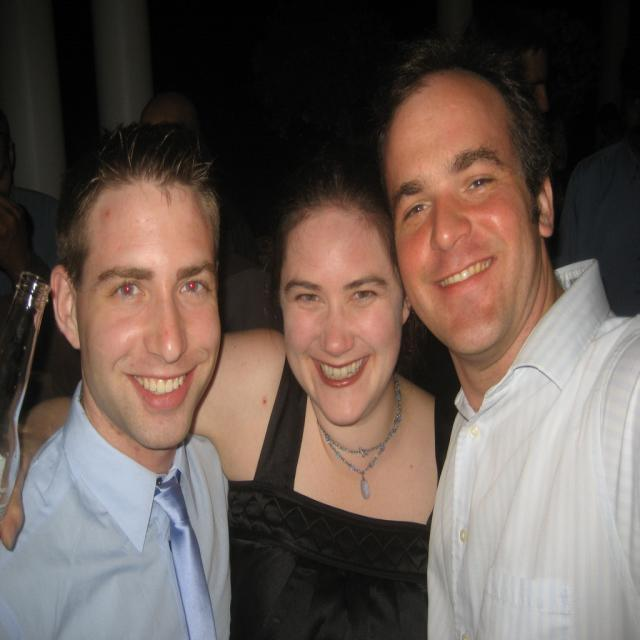closed-mouth: (434, 256, 498, 293)
